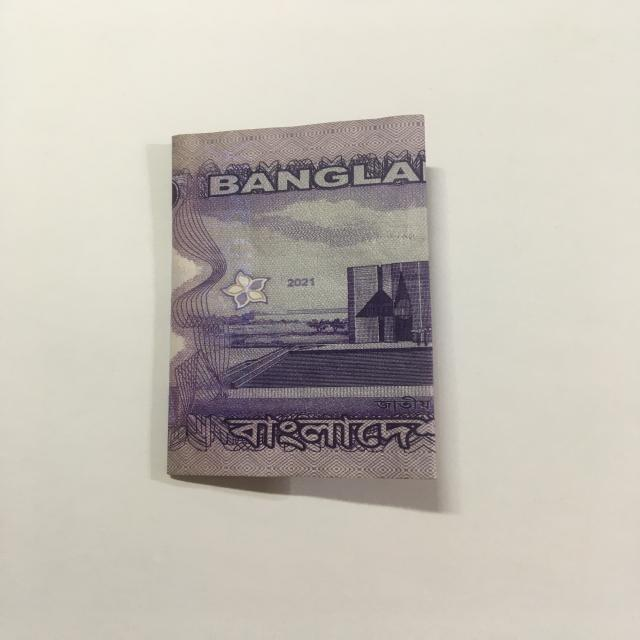Taka: (162, 115, 439, 491)
